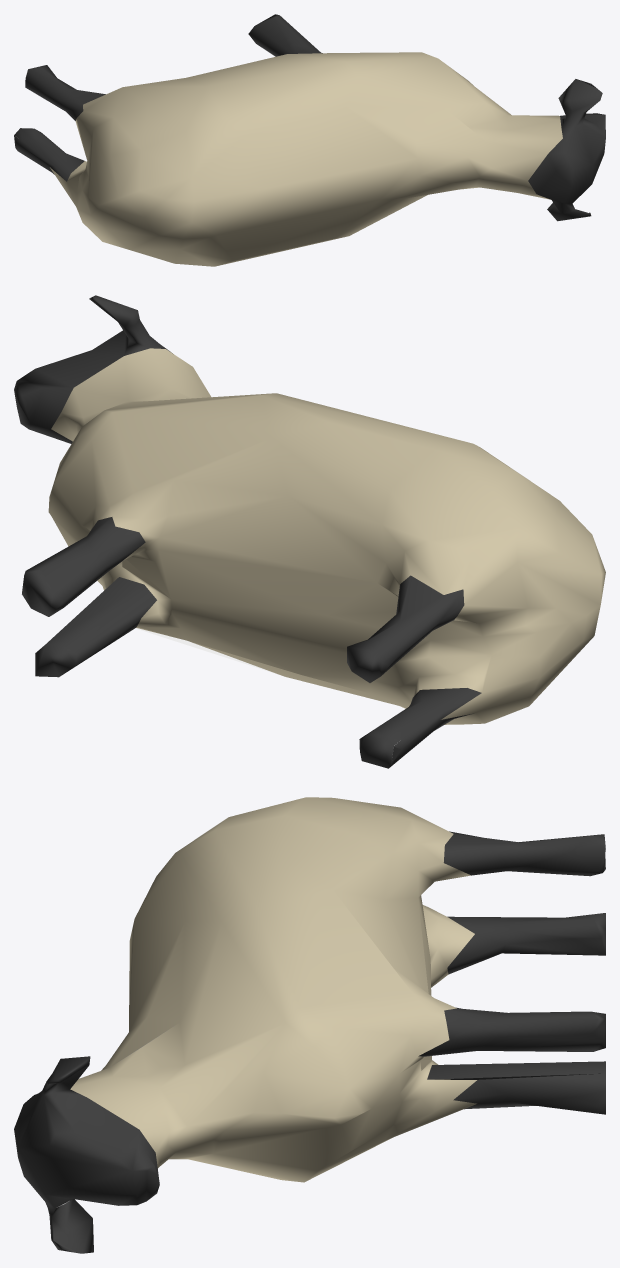
The model's file is sheep.dae.
3 renders of one model, top to bottom at view 1: azimuth 30°, elevation 25°; view 2: azimuth 150°, elevation 25°; view 3: azimuth 270°, elevation 25°, orthographic. The views are drawn at different scales.
Visible parts, largest first — view 1: coords_ME_ID11_MA_Color_D10, coords_ME_ID3_MA_Color_007, coords_ME_ID19_MA_Color_007, coords_ME_ID25_MA_Color_007, coords_ME_ID39_MA_Color_007; view 2: coords_ME_ID11_MA_Color_D10, coords_ME_ID3_MA_Color_007, coords_ME_ID39_MA_Color_007, coords_ME_ID45_MA_Color_007, coords_ME_ID19_MA_Color_007, coords_ME_ID25_MA_Color_007; view 3: coords_ME_ID11_MA_Color_D10, coords_ME_ID3_MA_Color_007, coords_ME_ID45_MA_Color_007, coords_ME_ID39_MA_Color_007, coords_ME_ID25_MA_Color_007, coords_ME_ID19_MA_Color_007.
Part boxes in pixels (box(x1,y1,x2,y2)): coords_ME_ID11_MA_Color_D10: box(50, 52, 562, 266); coords_ME_ID3_MA_Color_007: box(528, 79, 605, 221); coords_ME_ID19_MA_Color_007: box(25, 65, 105, 120); coords_ME_ID25_MA_Color_007: box(14, 128, 84, 181); coords_ME_ID39_MA_Color_007: box(248, 14, 322, 56); coords_ME_ID11_MA_Color_D10: box(48, 348, 605, 724); coords_ME_ID3_MA_Color_007: box(14, 295, 172, 443); coords_ME_ID39_MA_Color_007: box(22, 517, 145, 616); coords_ME_ID45_MA_Color_007: box(35, 577, 156, 677); coords_ME_ID19_MA_Color_007: box(347, 575, 464, 682); coords_ME_ID25_MA_Color_007: box(359, 688, 481, 768); coords_ME_ID11_MA_Color_D10: box(70, 797, 476, 1182); coords_ME_ID3_MA_Color_007: box(14, 1056, 159, 1253); coords_ME_ID45_MA_Color_007: box(427, 1061, 605, 1114); coords_ME_ID39_MA_Color_007: box(418, 1007, 605, 1056); coords_ME_ID25_MA_Color_007: box(447, 913, 605, 974); coords_ME_ID19_MA_Color_007: box(443, 831, 605, 876).
Bounding box in the file's own units: 43.88 × 16.28 × 33.53.
